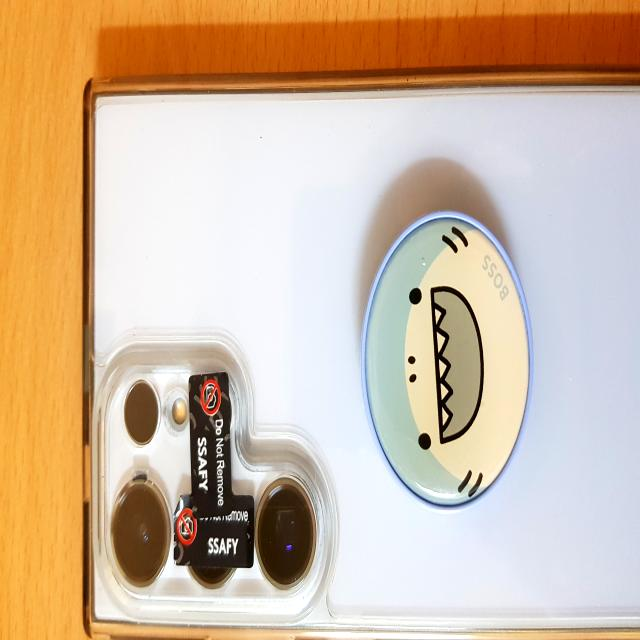phone: (78, 73, 640, 640)
removed_sticker: (187, 370, 232, 463)
sticker: (175, 500, 253, 568)
